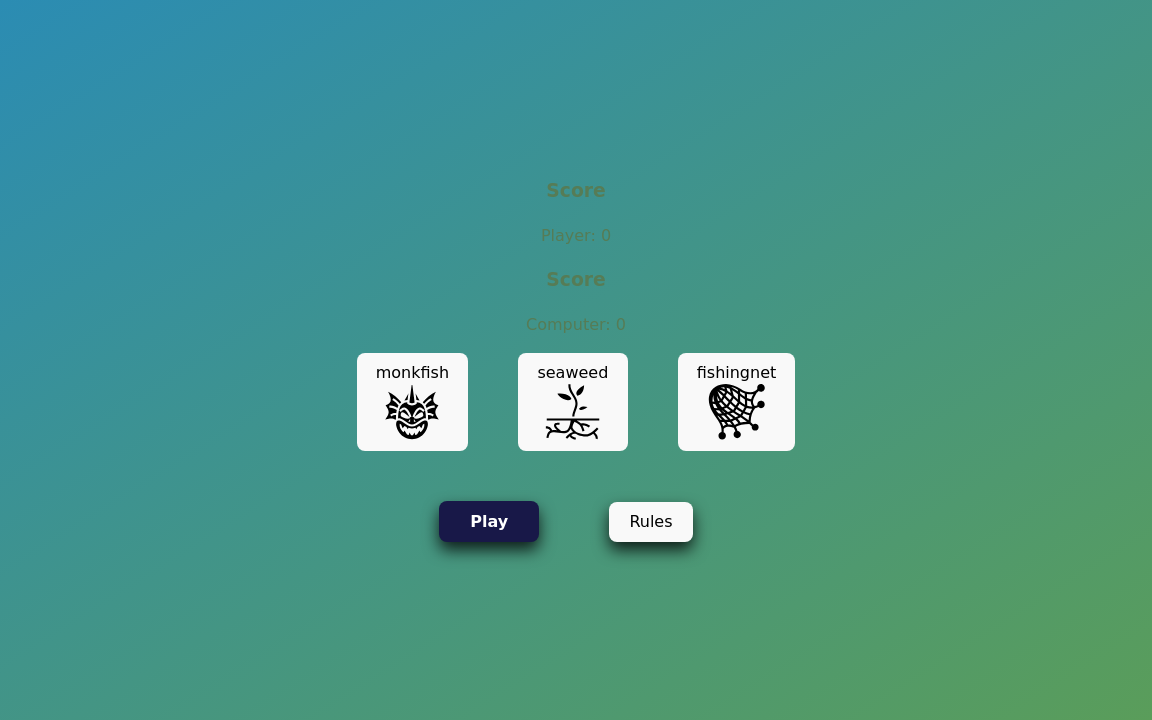
Score and results › should display 2 seconds on the screen after we wait one second after
The width and height of the screenshot is (1152, 720).
Click the button "seaweed" at (573, 402), box [518,353,628,451]
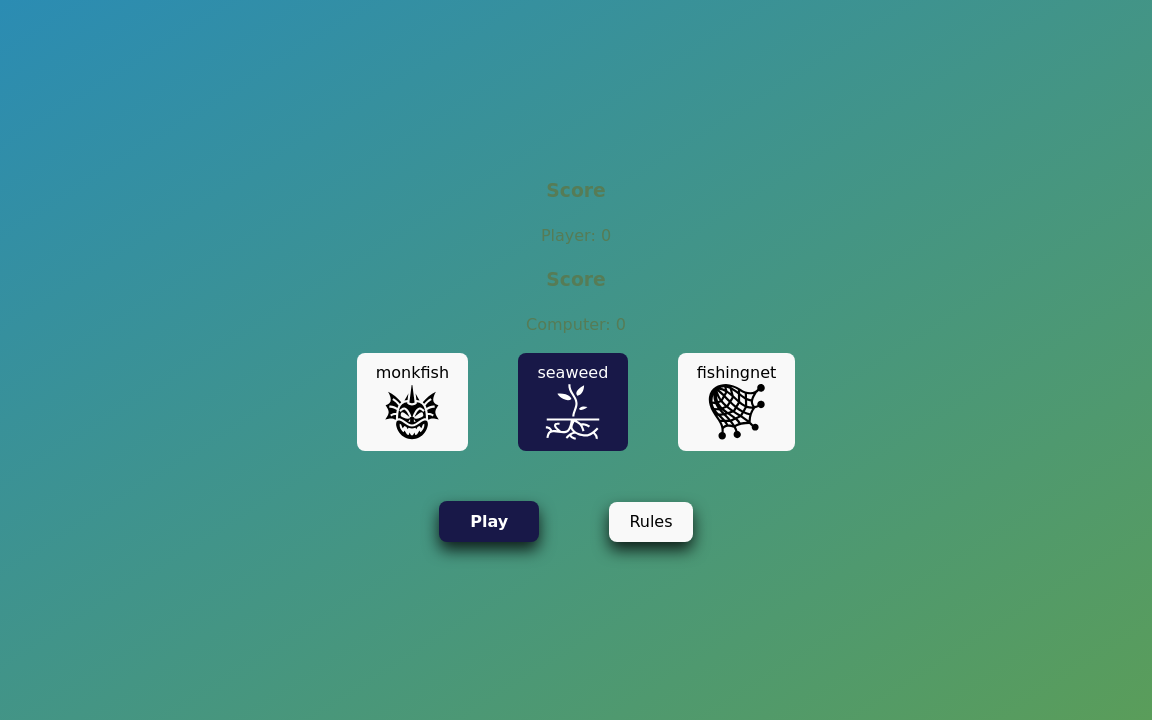
Click the button "Play" at (489, 522), box [439,501,539,542]
Wait 1000 ms
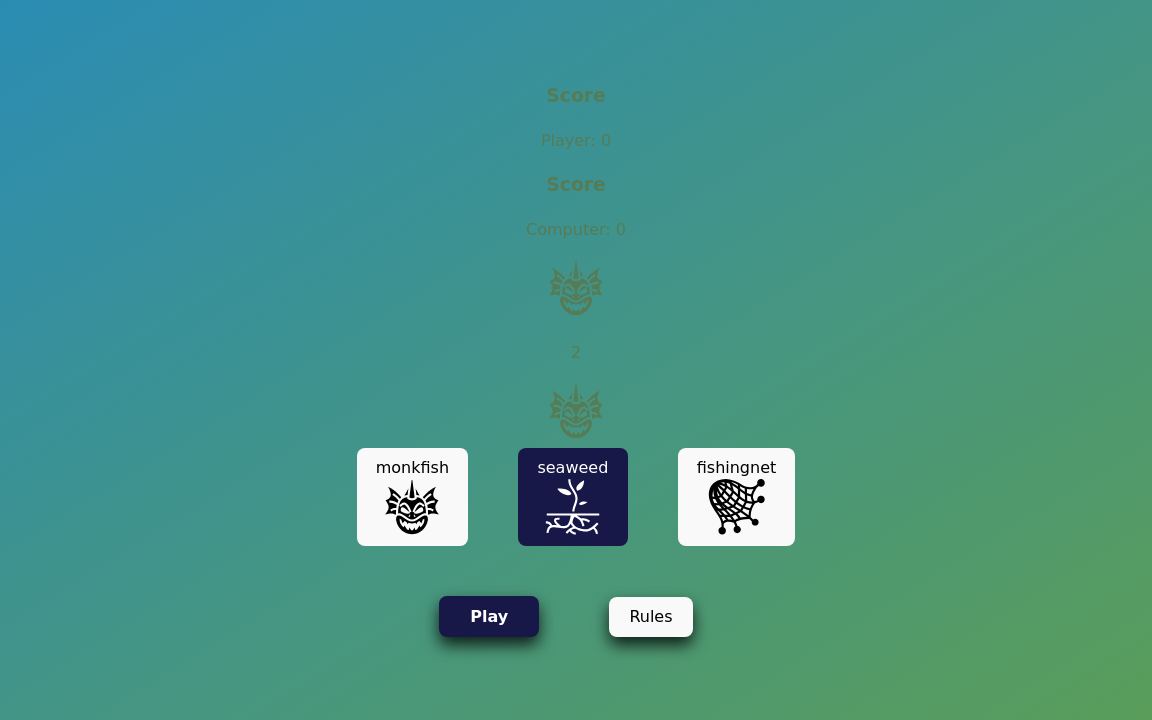
Expected: the text with test id "timer" reads "2", [571,343,581,362]
